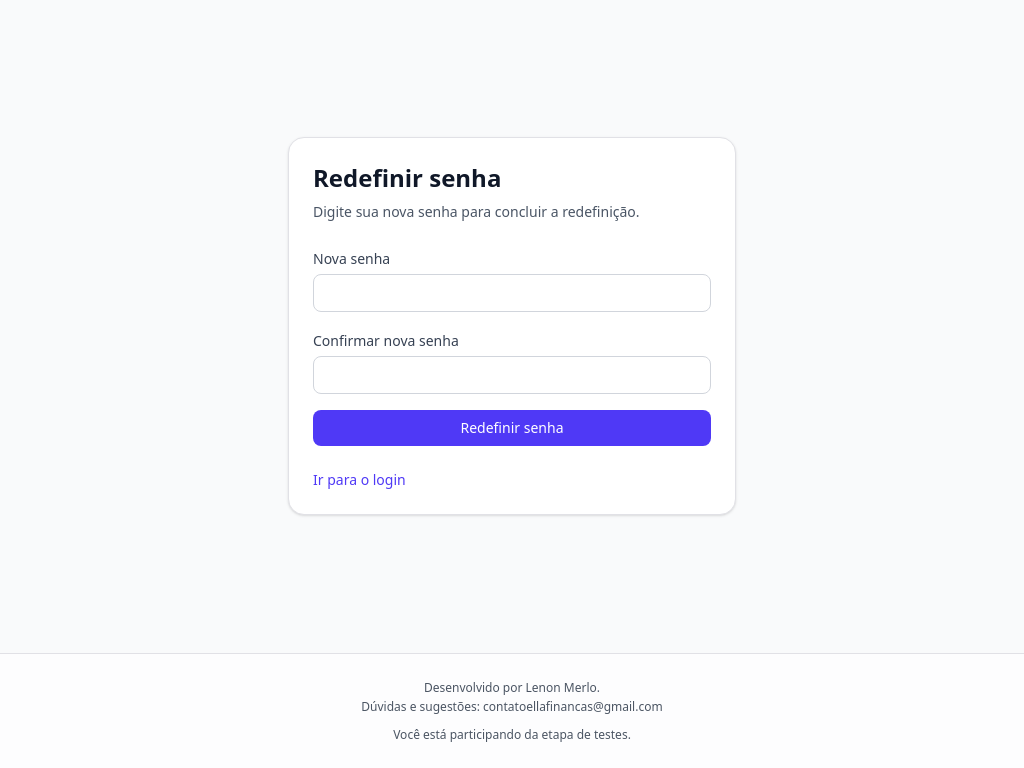
it: ResetPasswordPage › submits token + newPassword and shows success
The image size is (1024, 768).
Type "password123" into the password field labelled "Nova senha" at (512,293), box [313,274,711,312]
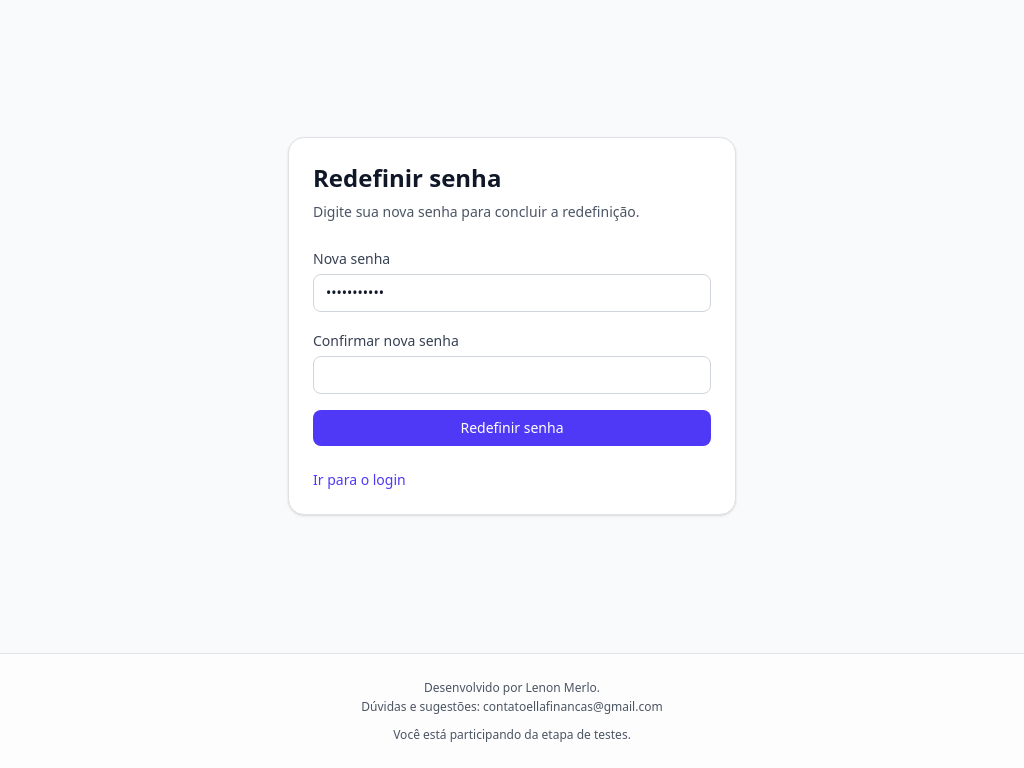
Type "password123" into the password field labelled "Confirmar nova senha" at (512,375), box [313,356,711,394]
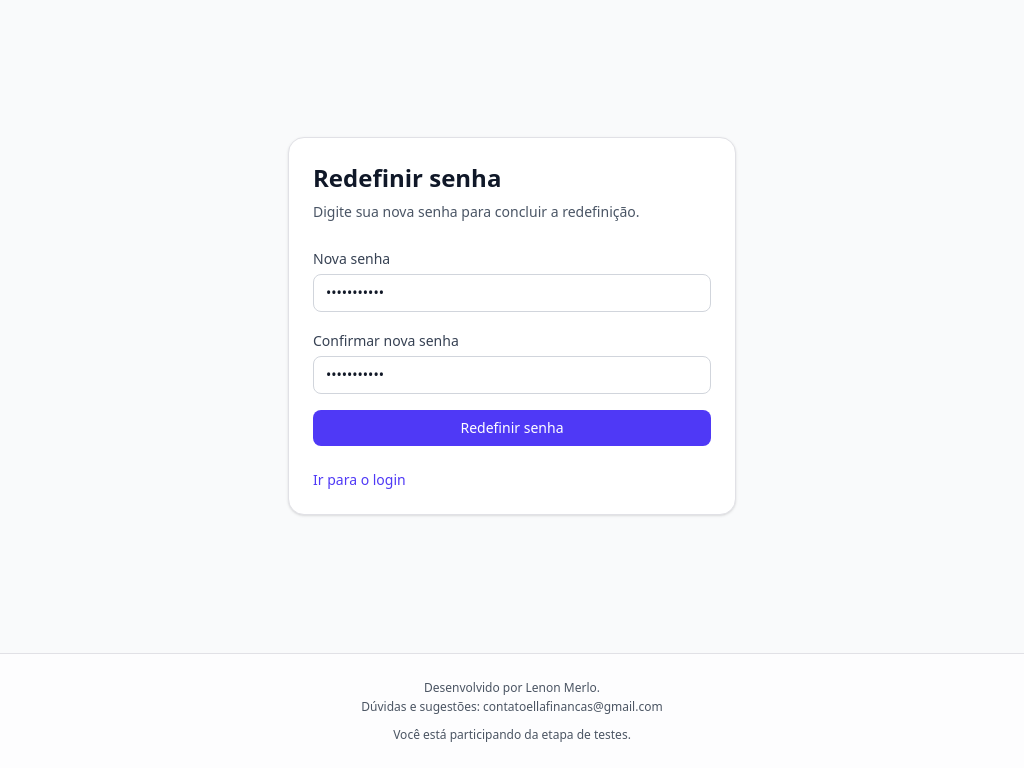
Click the button "Redefinir senha" at (512,428), box [313,410,711,446]
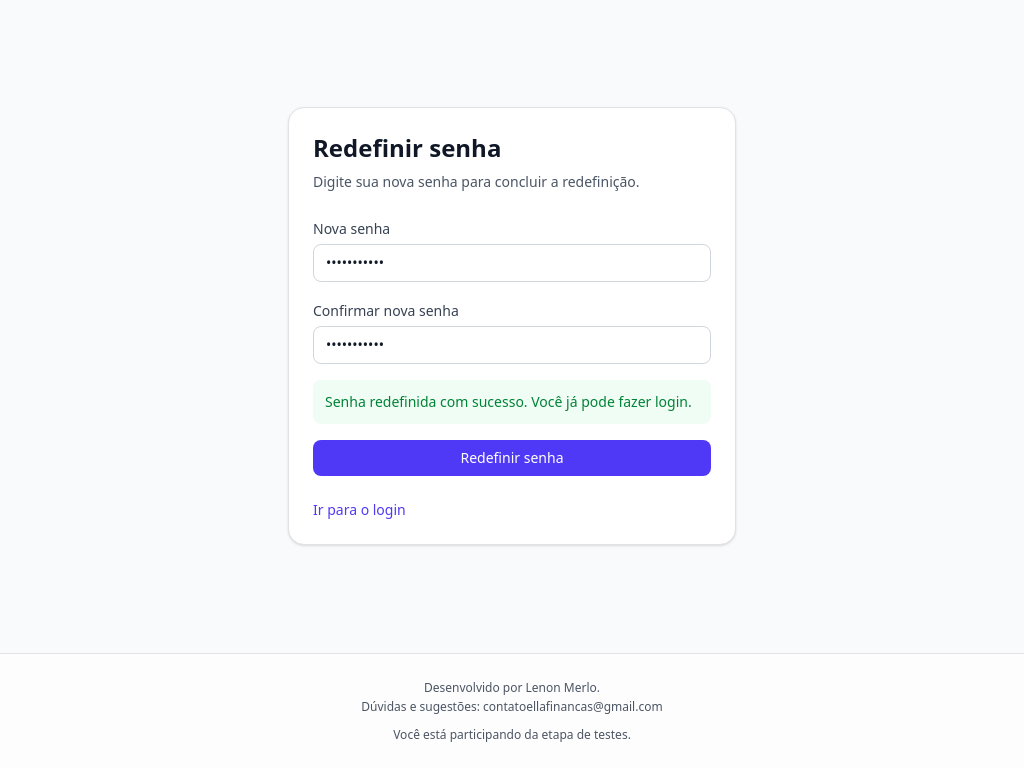
Expected: the message shows "Senha redefinida com sucesso", [325,392,692,411]
